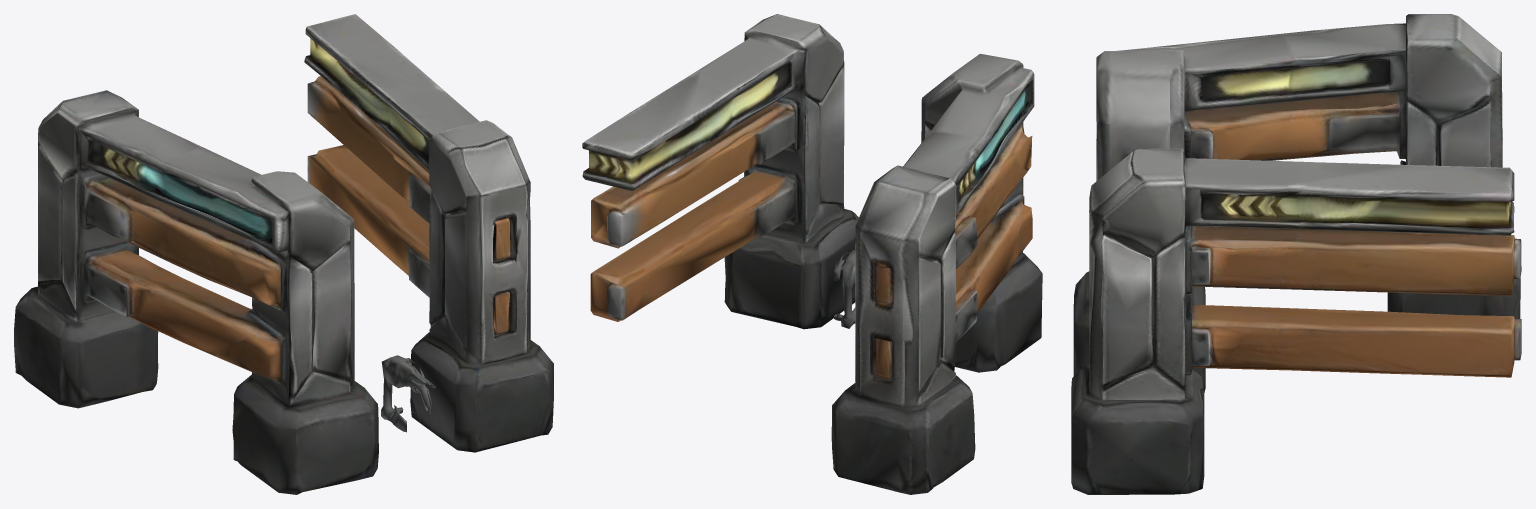
File: au_env_deadend_gate.glb
The picture shows the model from 3 angles, left to right: view 1: azimuth 30°, elevation 25°; view 2: azimuth 150°, elevation 25°; view 3: azimuth 270°, elevation 25°; orthographic projection. The views are drawn at different scales.
Parts seen in each view (by area): view 1: tripo_node_c552191a-780b-4277-8de8-4bec01a45f11; view 2: tripo_node_c552191a-780b-4277-8de8-4bec01a45f11; view 3: tripo_node_c552191a-780b-4277-8de8-4bec01a45f11.
Part boxes in pixels (x1,y1,x2,y2): tripo_node_c552191a-780b-4277-8de8-4bec01a45f11: [14, 14, 553, 494]; tripo_node_c552191a-780b-4277-8de8-4bec01a45f11: [582, 14, 1042, 494]; tripo_node_c552191a-780b-4277-8de8-4bec01a45f11: [1071, 14, 1521, 494].
Bounding box in the file's own units: 0.9637 × 0.7386 × 0.9793.
Materials: 1 (1 with a texture image).
